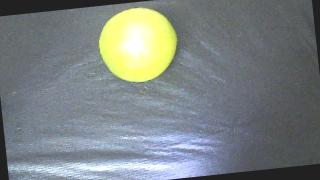LOCAL: (95, 4, 181, 86)
